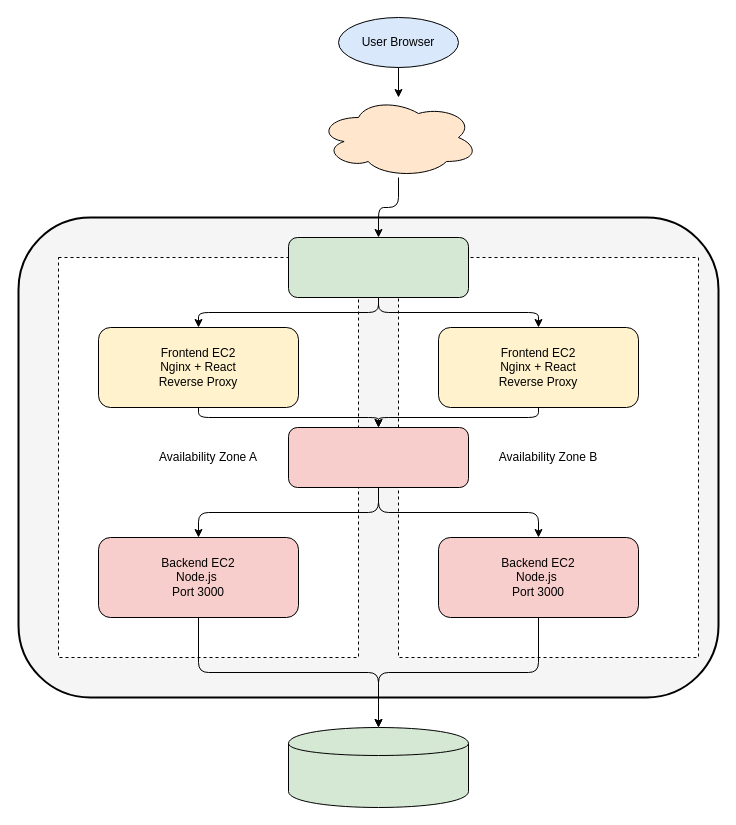
This 736x825 diagram has some shape labels left out. The centre of each missing label's shape, as x and y in pixels:
Backend Application Load Balancer: the point at 378,457
Cloudflare DNS / CDN / SSL: the point at 398,137
Frontend Application Load Balancer HTTP/HTTPS: the point at 378,267
MongoDB Atlas Managed Database TLS Connection: the point at 378,767
